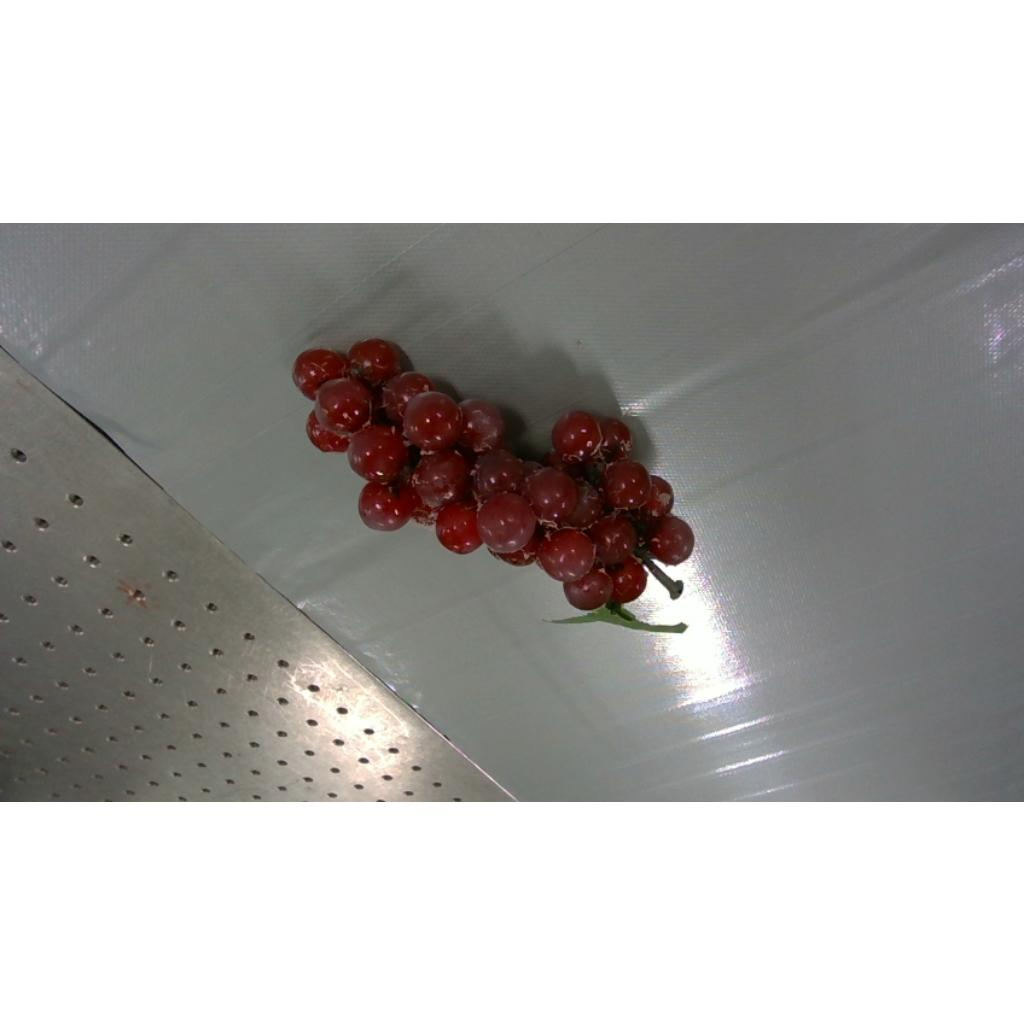grape: (294, 338, 694, 632)
